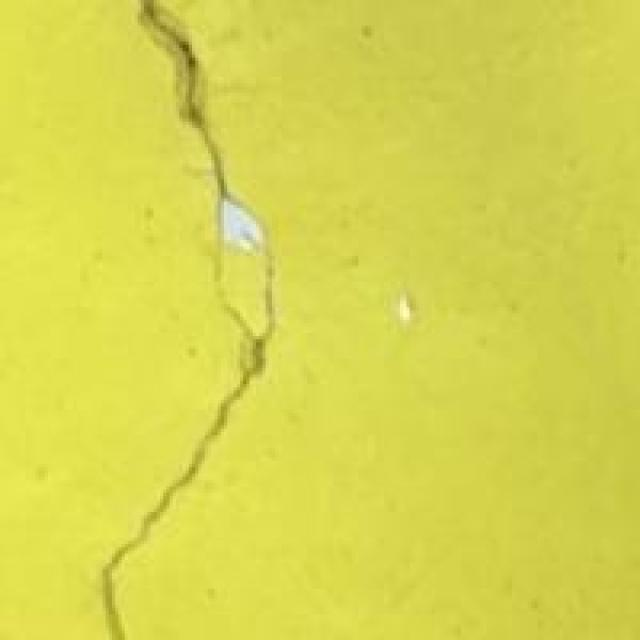Crack: (80, 0, 282, 637)
